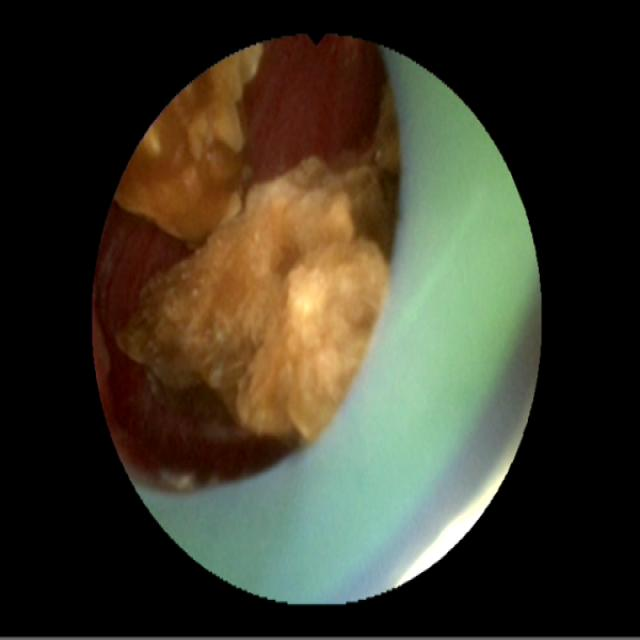stone: (118, 49, 399, 445)
